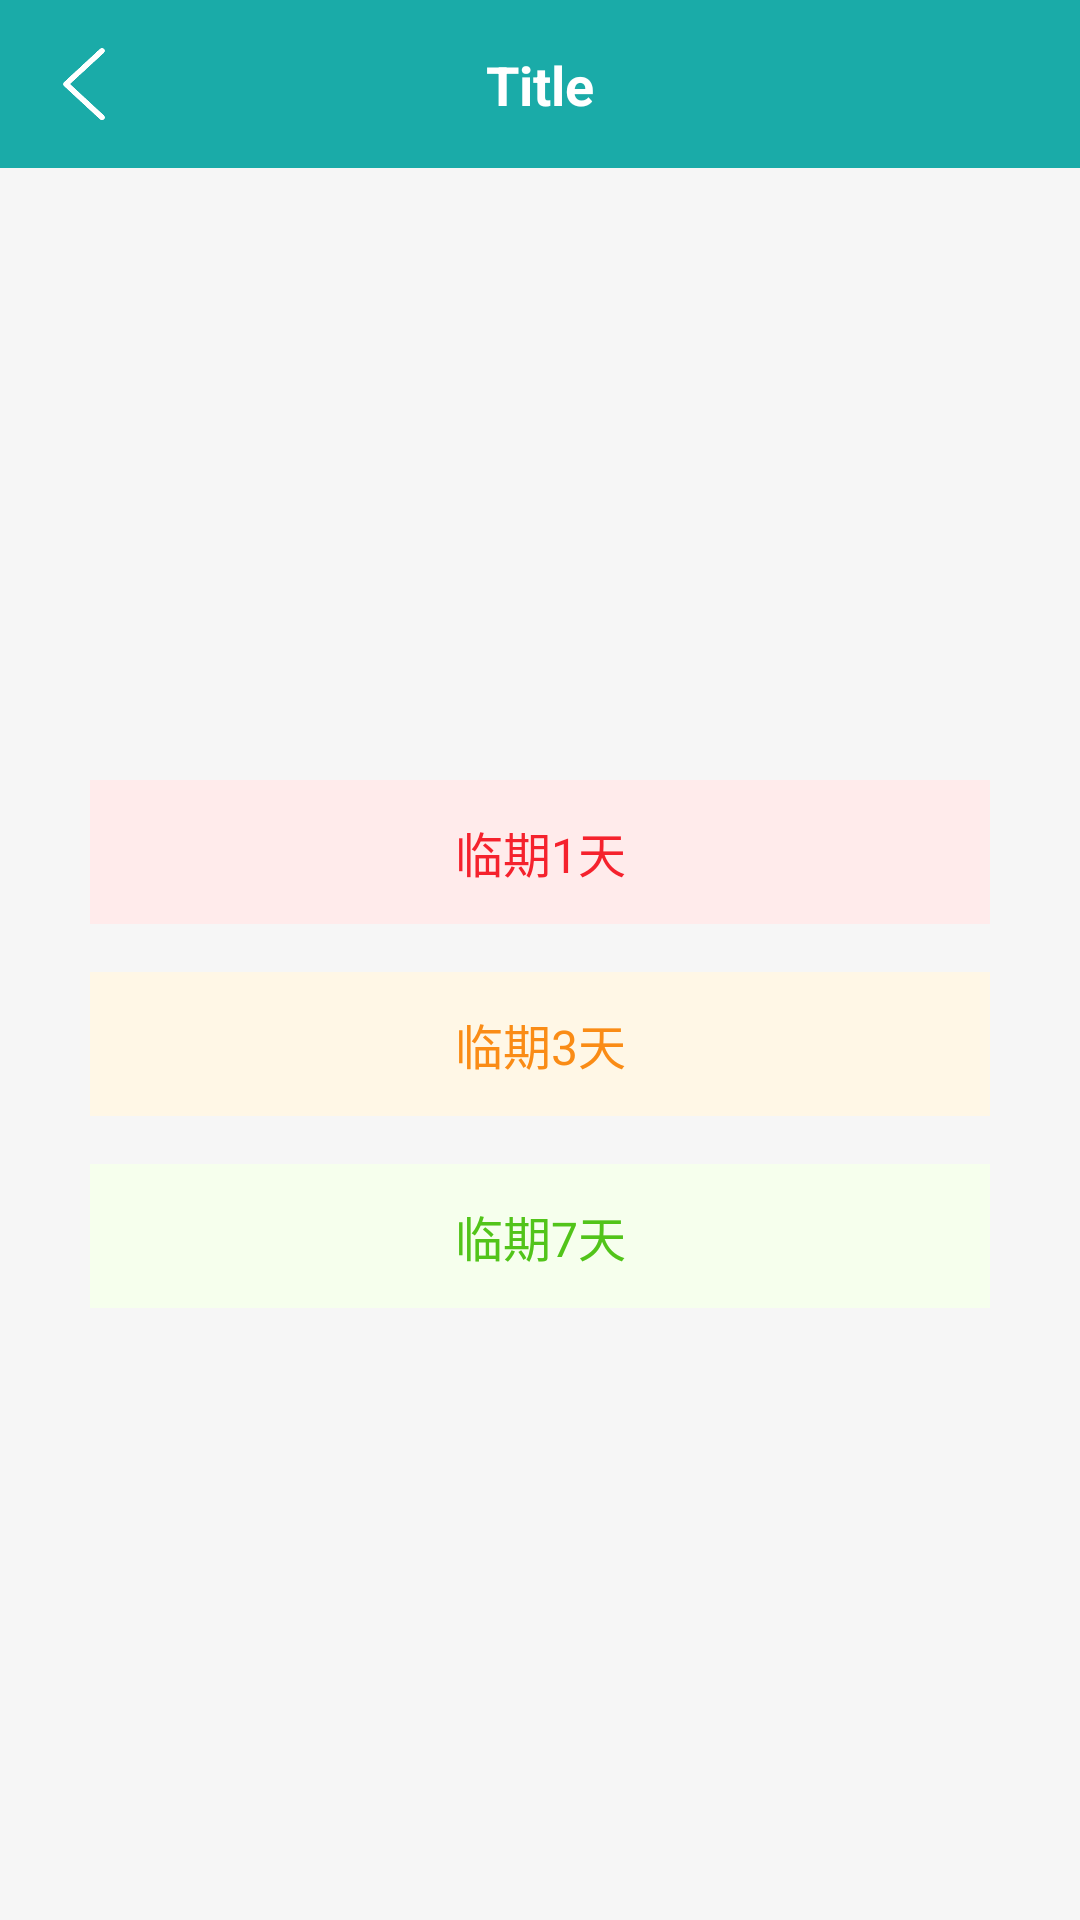

Icon bounding boxes for this 1080x1920 phone screenshot, format (x1, y1, x2, y2):
back: (63, 48, 105, 120)
